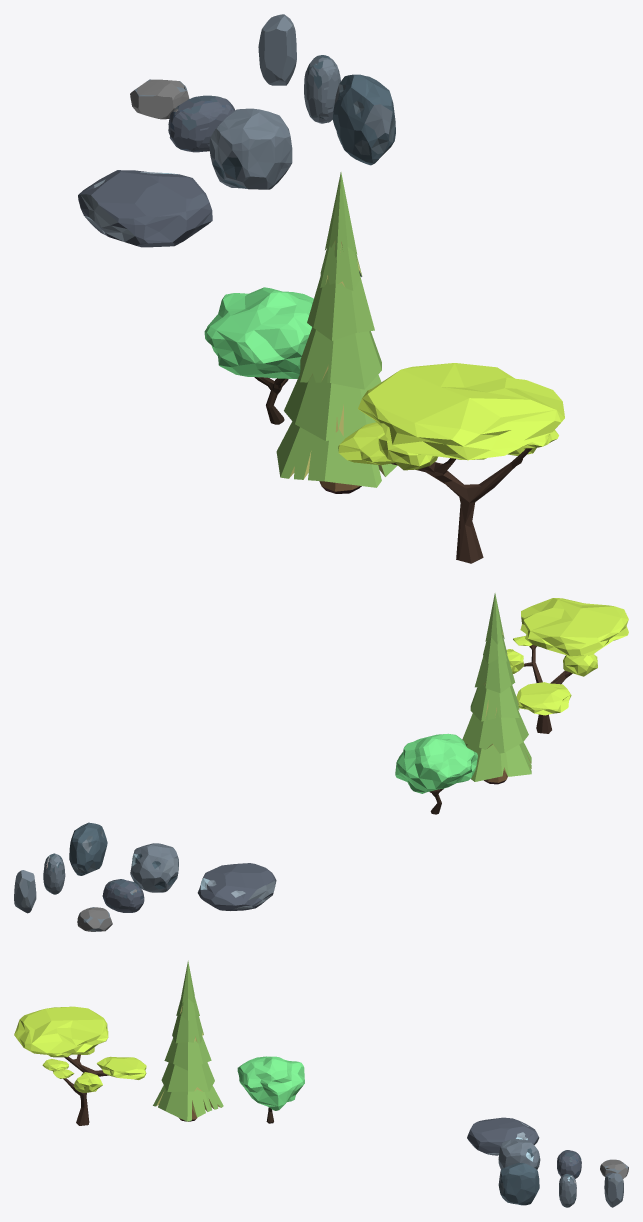
Rendered from ForestPackBlend.fbx.
3 renders of one model, top to bottom at view 1: azimuth 30°, elevation 25°; view 2: azimuth 150°, elevation 25°; view 3: azimuth 270°, elevation 25°, orthographic. The views are drawn at different scales.
Visible parts, largest first — view 1: Tree3, PineTree, Tree, Rock7.001, Rock6, Rock5, Rock9, Rock11.001, Rock8.001, Rock12; view 2: Tree3, PineTree, Tree, Rock7.001, Rock6, Rock5, Rock9, Rock11.001, Rock8.001, Rock12; view 3: Tree3, PineTree, Tree, Rock7.001, Rock5, Rock6, Rock11.001, Rock9, Rock8.001, Rock12.
Boxes of the visible parts, x1,y1,x2,y2 form: Tree3: (338,363,564,563); PineTree: (276,172,397,493); Tree: (204,287,313,424); Rock7.001: (78,170,212,247); Rock6: (209,108,292,189); Rock5: (332,74,395,165); Rock9: (168,95,234,152); Rock11.001: (258,14,296,85); Rock8.001: (304,55,340,123); Rock12: (130,79,189,119); Tree3: (506,598,628,733); PineTree: (462,593,531,784); Tree: (395,733,477,814); Rock7.001: (197,863,276,910); Rock6: (130,843,178,892); Rock5: (69,822,107,875); Rock9: (102,879,144,912); Rock11.001: (14,870,36,913); Rock8.001: (43,853,65,894); Rock12: (77,907,112,931); Tree3: (14,1006,146,1125); PineTree: (153,960,223,1121); Tree: (237,1056,304,1123); Rock7.001: (467,1117,539,1155); Rock5: (498,1163,539,1205); Rock6: (498,1139,540,1169); Rock11.001: (604,1172,623,1207); Rock9: (557,1150,581,1178); Rock8.001: (559,1174,576,1207); Rock12: (600,1159,628,1178).
Size of the model in its own units: 1073 by 701 by 2456.
